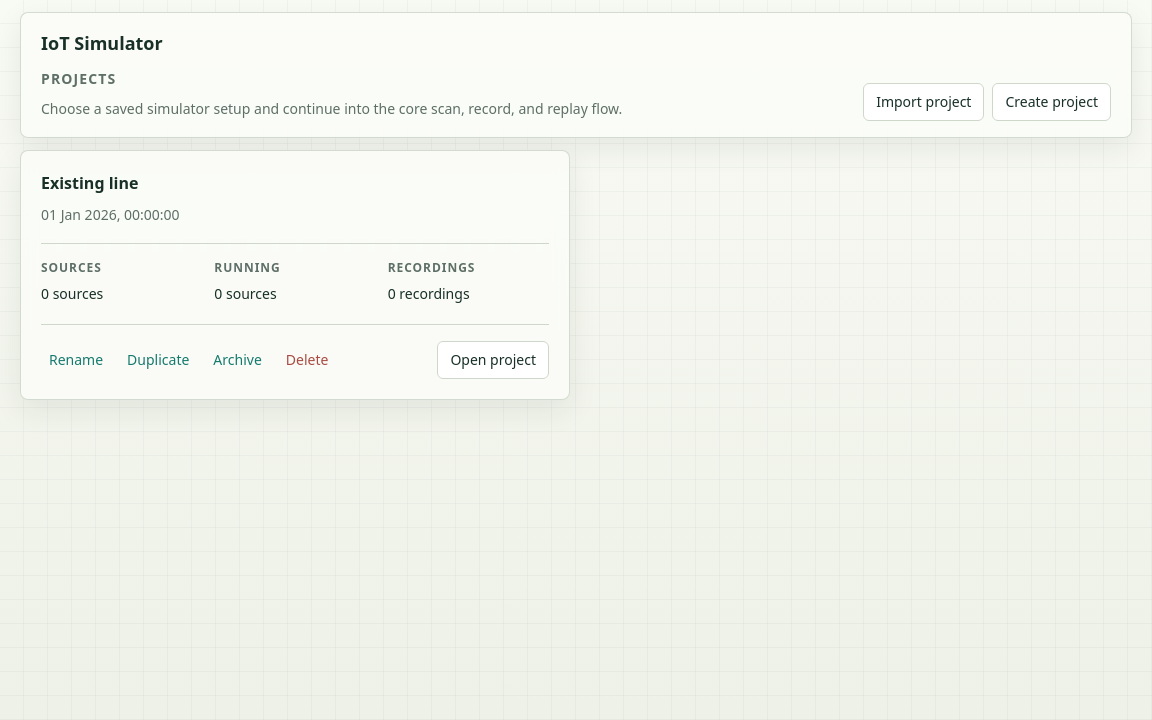
Test: CreateProjectDialog (UI-110) › opens the dialog when Create project is clicked
Click the button "Create project" at {"x": 1052, "y": 102}, box left=992, top=83, right=1111, bottom=121
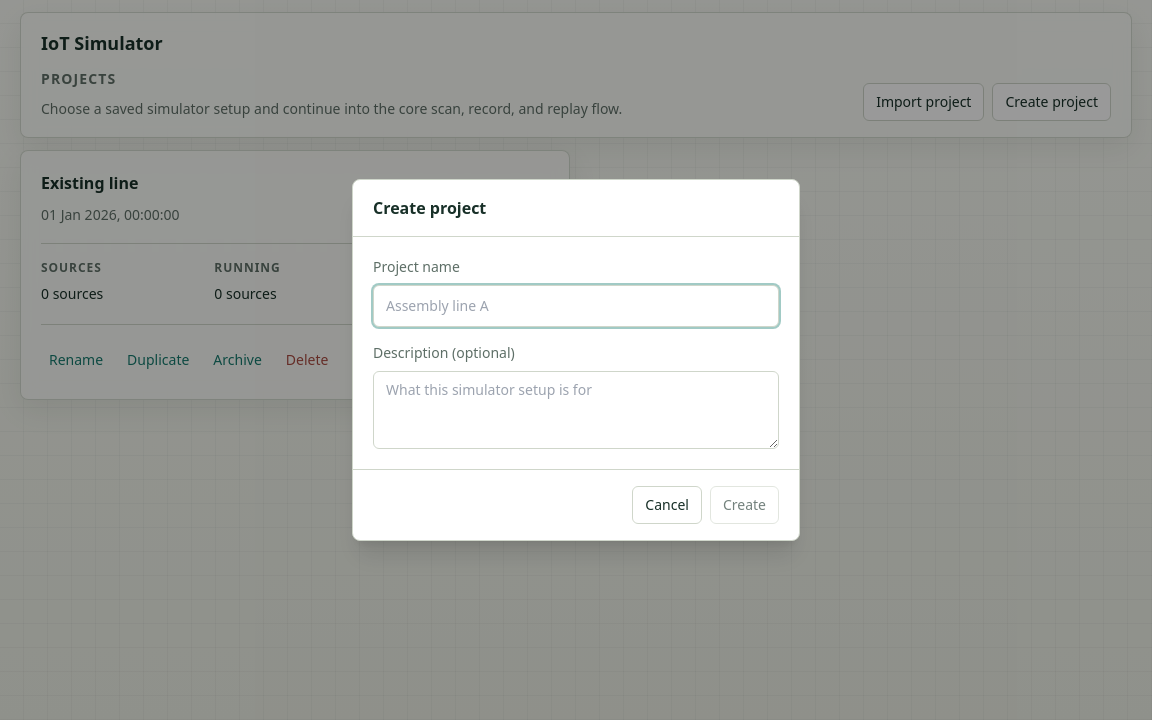
Check: the dialog is shown, box left=352, top=179, right=800, bottom=541
Check: the heading "Create project" is shown, box left=373, top=197, right=486, bottom=219
